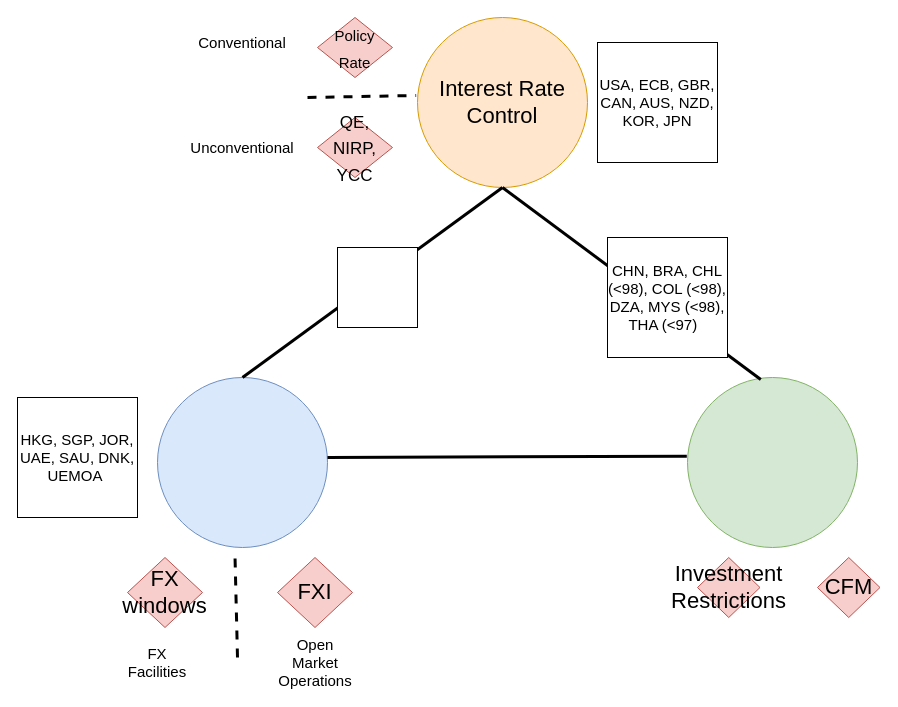
Some shapes in this 898 by 707 pixel diagram are drawn without their labels. Here are the shapes that lost their labels. From the top down, the centre of each, then its label:
At pixel 377 287: "PER, MAR, CHE (< 2015)".
At pixel 242 462: "FX Rate Control".
At pixel 772 462: "Capital Account Control".
